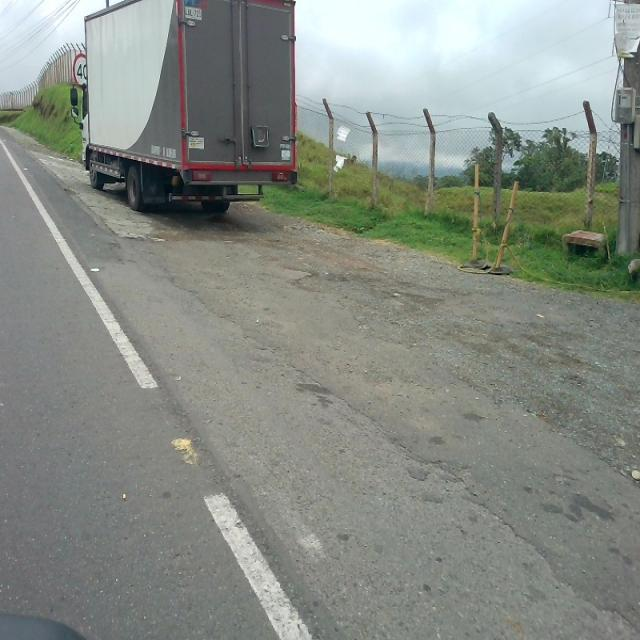DITCH: (3, 126, 638, 638)
